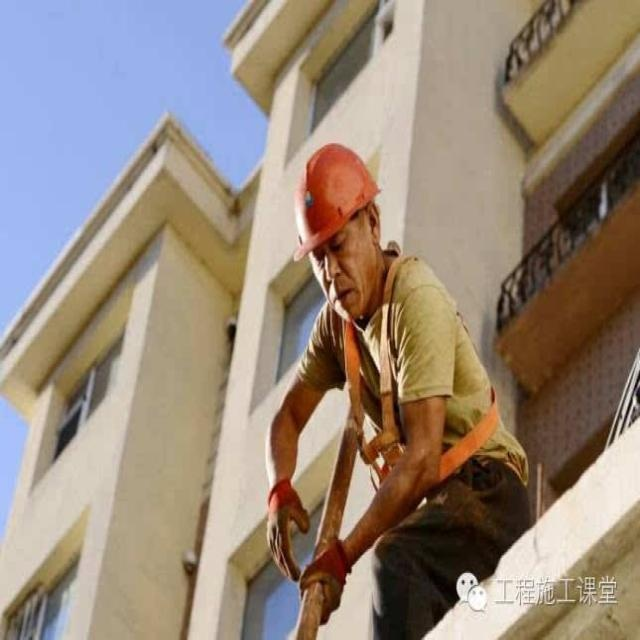Arnes_seguridad: (336, 246, 504, 486)
